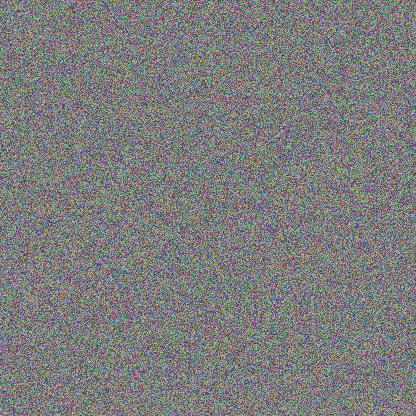empty: (85, 179, 172, 238), (248, 200, 296, 273)
